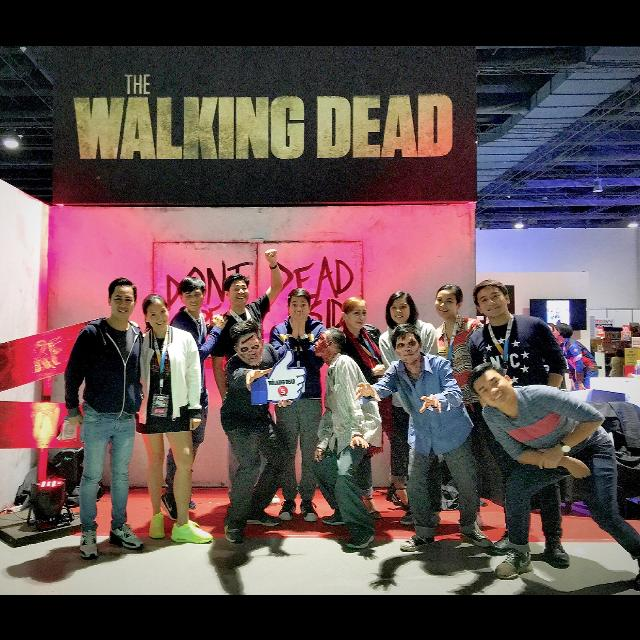head: (466, 360, 514, 408), (233, 320, 265, 366), (108, 278, 138, 320), (476, 280, 510, 316), (393, 324, 422, 364), (142, 292, 172, 330), (434, 282, 464, 318), (340, 295, 370, 329), (314, 326, 346, 356), (180, 278, 208, 312), (224, 274, 250, 306), (387, 292, 413, 324), (287, 288, 311, 322)
person: (353, 318, 495, 556), (466, 276, 576, 568), (59, 274, 151, 564), (127, 289, 215, 546), (204, 246, 290, 508), (414, 278, 492, 536), (156, 272, 230, 526), (214, 316, 296, 544), (330, 294, 408, 524), (310, 326, 384, 550), (266, 284, 334, 522), (376, 286, 442, 528)
